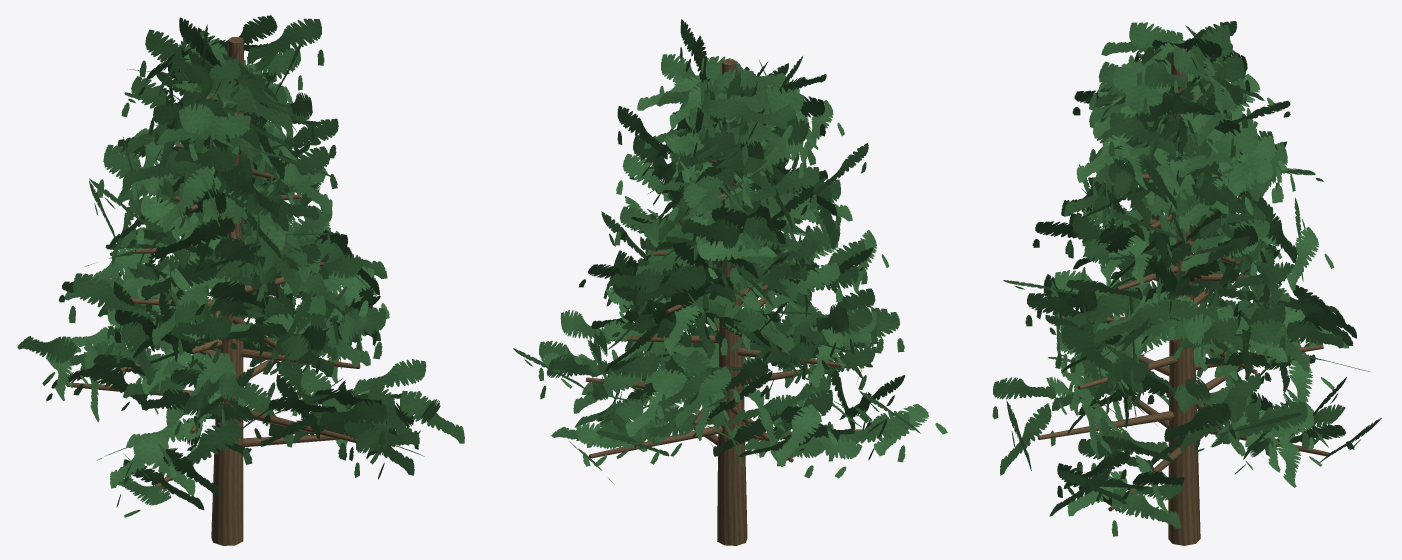
3 renders of one model, left to right at view 1: azimuth 30°, elevation 25°; view 2: azimuth 150°, elevation 25°; view 3: azimuth 270°, elevation 25°, orthographic. The views are drawn at different scales.
Visible parts, largest first — view 1: pine-needle, pine-bark; view 2: pine-needle, pine-bark; view 3: pine-needle, pine-bark.
Boxes of the visible parts, box(x1,y1,x2,y2) form: pine-needle: box(17, 15, 464, 517); pine-bark: box(67, 37, 396, 545); pine-needle: box(513, 19, 947, 484); pine-bark: box(586, 59, 890, 545); pine-needle: box(992, 21, 1381, 536); pine-bark: box(1037, 48, 1329, 545).
Size of the model in its own units: 7.7 by 10.42 by 7.46.
Materials: 2 (2 with a texture image).
